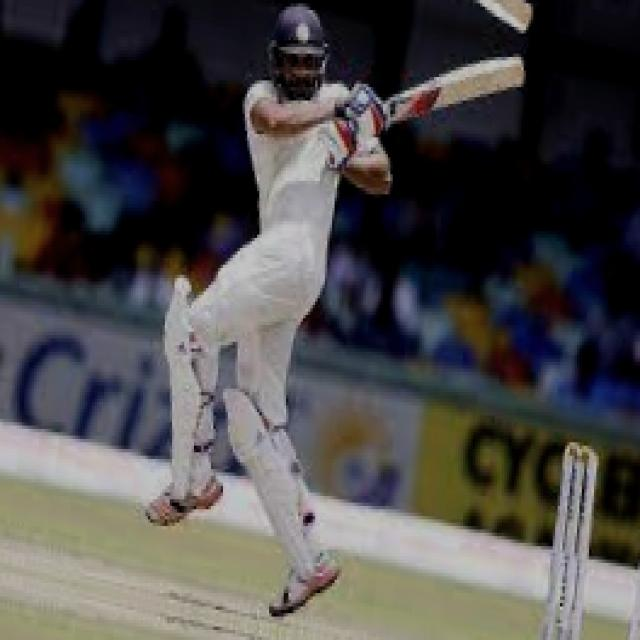toe: (508, 50, 526, 91)
